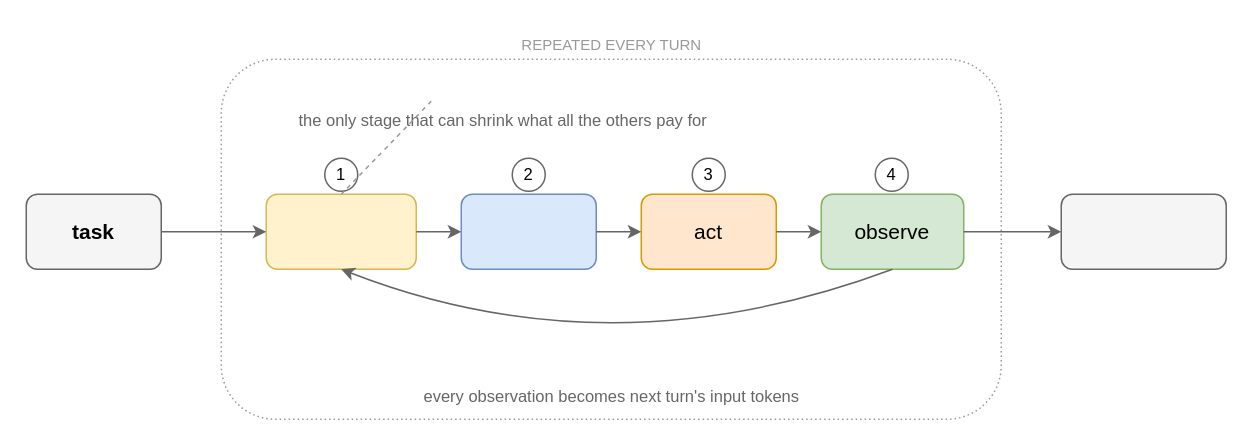
Image size: 1253x446. Some labels were removed from this diagram. The box of each missing label's shape, as (x1, y1, x2, y2) in pixels:
answer: (1060, 193, 1226, 269)
memory: (265, 193, 416, 269)
plan: (460, 193, 596, 269)
